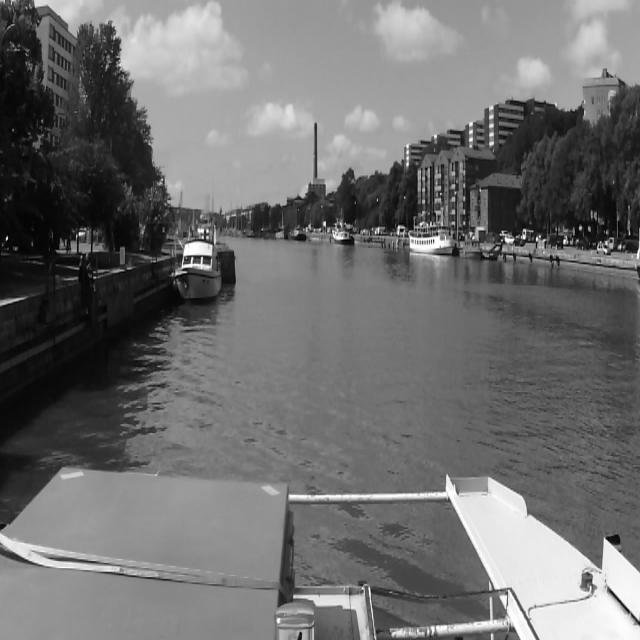ship: (172, 236, 224, 305), (409, 223, 457, 255), (332, 208, 354, 246), (462, 241, 482, 258), (288, 224, 306, 241)
